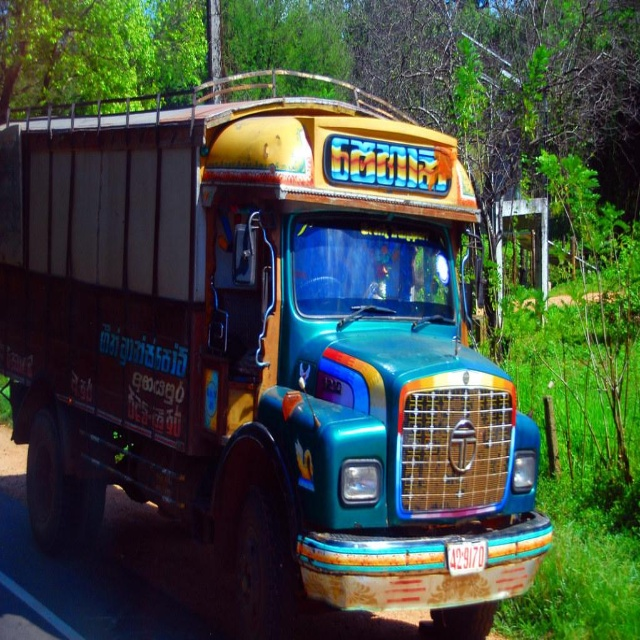Truck: (1, 69, 552, 640)
